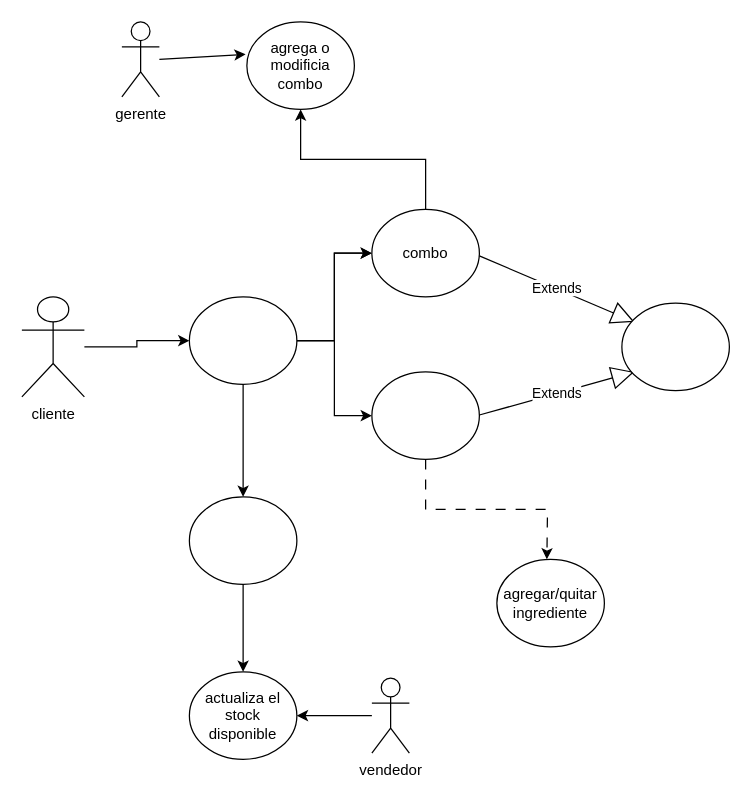
Some shapes in this 751 by 801 pixel diagram are drawn without their labels. The box of each missing label's shape, as (x1, y1, x2, y2) in pixels:
item: (621, 302, 729, 391)
producto: (371, 371, 479, 459)
realiza un pedido: (188, 296, 297, 384)
se registra una venta: (188, 496, 297, 584)
